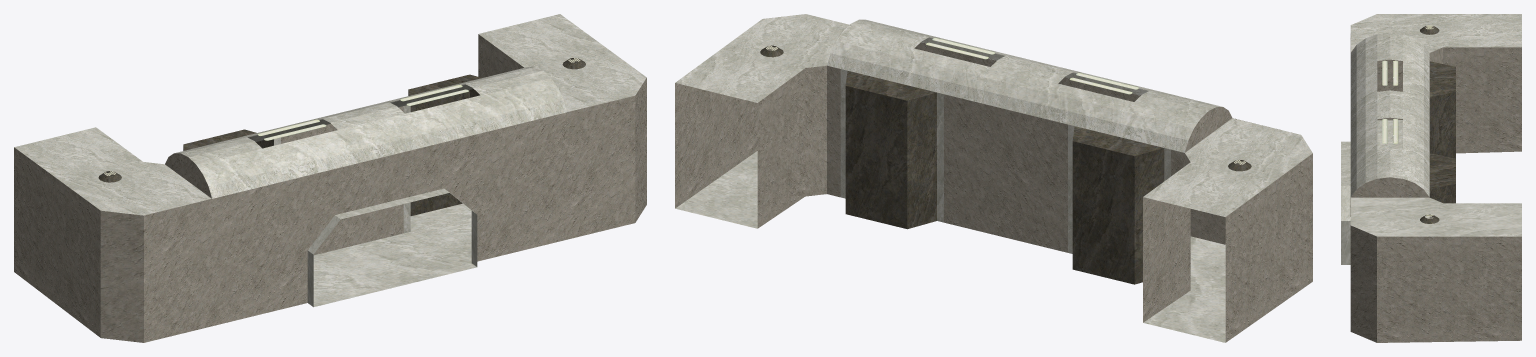
File: thm_all_assoc_hall_civ_s01_r1_entry_mesh_entry.fbx
3 views of the same model, side by side, from view 1: azimuth 30°, elevation 25°; view 2: azimuth 150°, elevation 25°; view 3: azimuth 270°, elevation 25° (orthographic). The views are drawn at different scales.
Parts seen in each view (by area): view 1: mesh_node; view 2: mesh_node; view 3: mesh_node.
Part boxes in pixels (box(x1,y1,x2,y2)): mesh_node: box(14, 14, 646, 342); mesh_node: box(675, 14, 1312, 342); mesh_node: box(1341, 14, 1521, 342).
Bounding box in the file's own units: 20 × 5.37 × 6.87.
